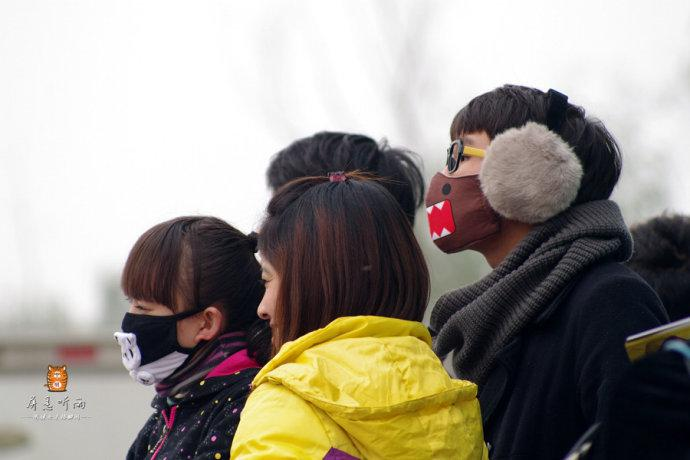OK: (114, 283, 216, 385), (427, 143, 512, 251)
